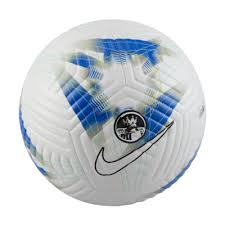football ball: (17, 18, 208, 206)
